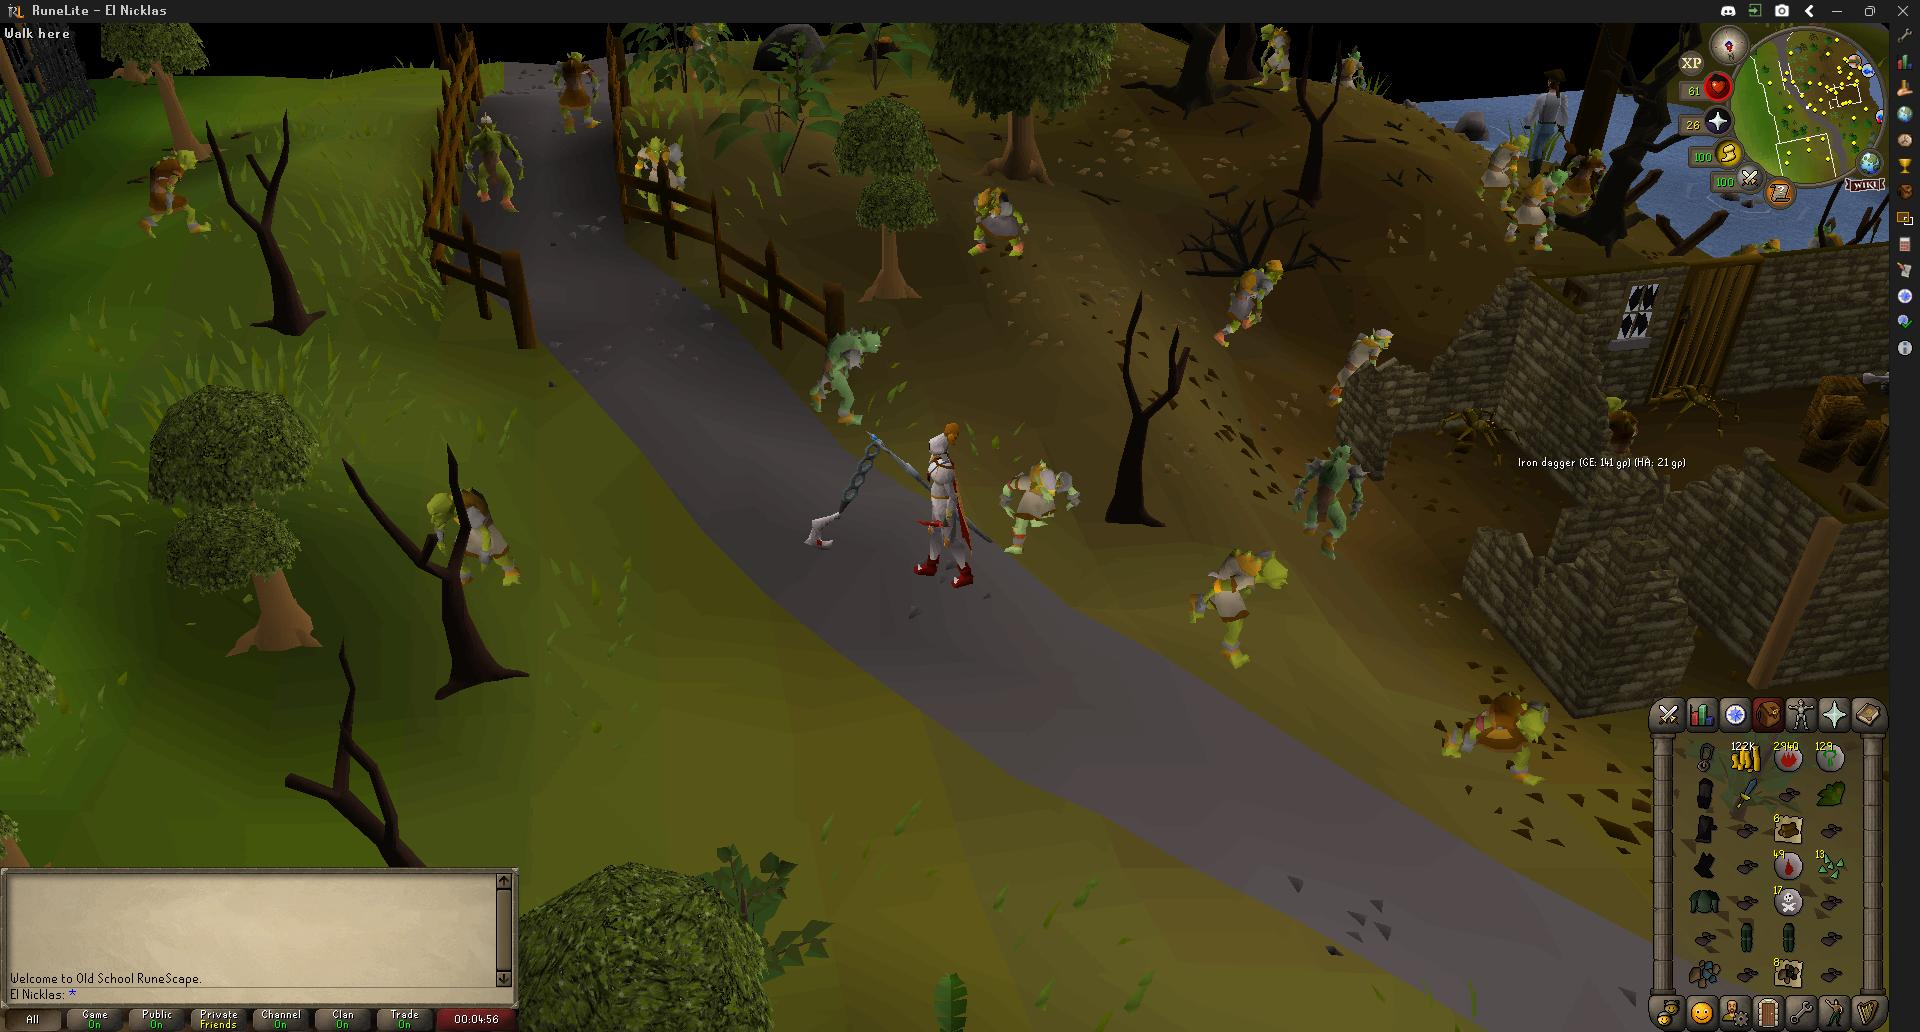goblin: (909, 424, 973, 588), (427, 480, 520, 588), (1206, 548, 1297, 655), (1442, 693, 1545, 779), (809, 328, 895, 431), (995, 458, 1072, 560), (137, 147, 212, 240), (1305, 441, 1365, 555), (460, 113, 524, 212), (1214, 258, 1282, 348), (1508, 165, 1571, 253), (1332, 325, 1394, 407), (634, 131, 689, 216), (970, 184, 1029, 261), (551, 52, 598, 135), (1480, 128, 1526, 206), (1258, 24, 1292, 92), (1602, 395, 1639, 458), (1337, 43, 1366, 94)
